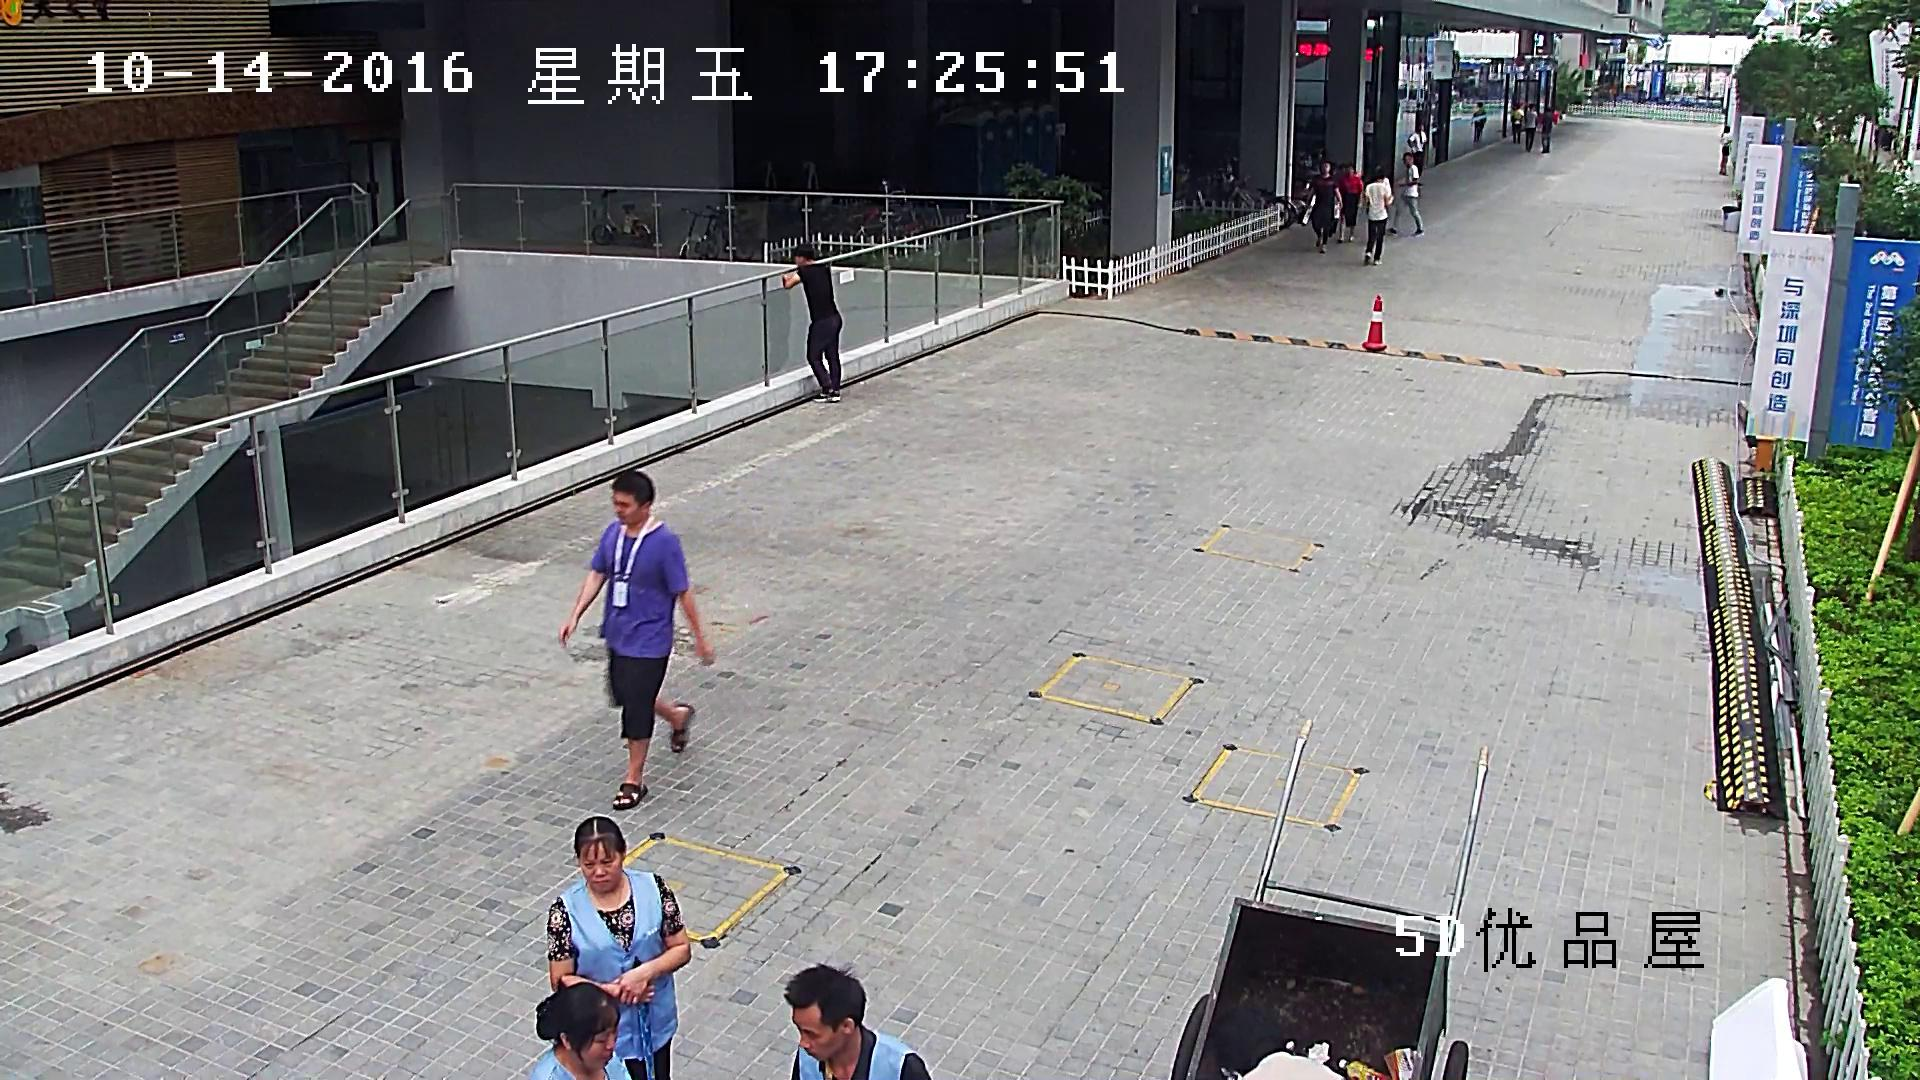person: (554, 469, 717, 809), (544, 814, 692, 1080), (782, 961, 933, 1080), (780, 242, 843, 404), (1304, 161, 1343, 256), (1385, 150, 1426, 238), (1361, 163, 1390, 266), (1335, 164, 1364, 243), (1406, 121, 1428, 189), (1373, 164, 1394, 233), (1718, 124, 1734, 177), (1523, 104, 1539, 152), (1471, 100, 1487, 144), (1540, 107, 1553, 154), (1510, 102, 1524, 143)
